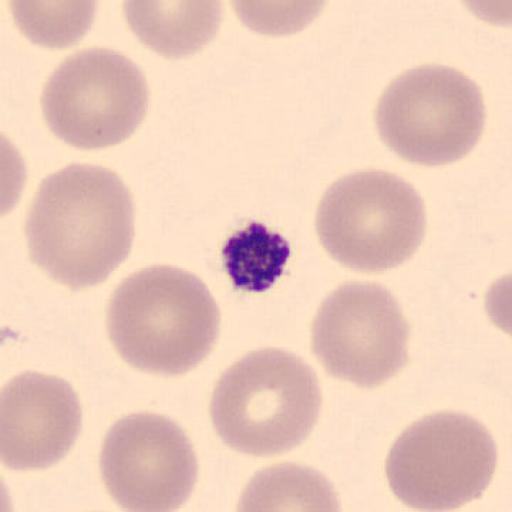Platelet: (218, 217, 294, 295)
RBC: (22, 160, 137, 294), (103, 261, 223, 378), (207, 344, 325, 459), (312, 166, 429, 276), (371, 61, 489, 169), (38, 44, 152, 153), (382, 407, 499, 512), (308, 278, 412, 389), (96, 407, 200, 512), (2, 368, 85, 474), (120, 0, 227, 62), (232, 460, 344, 512), (6, 0, 101, 49), (226, 0, 333, 38), (1, 129, 29, 221), (483, 268, 512, 338), (452, 0, 512, 28)
